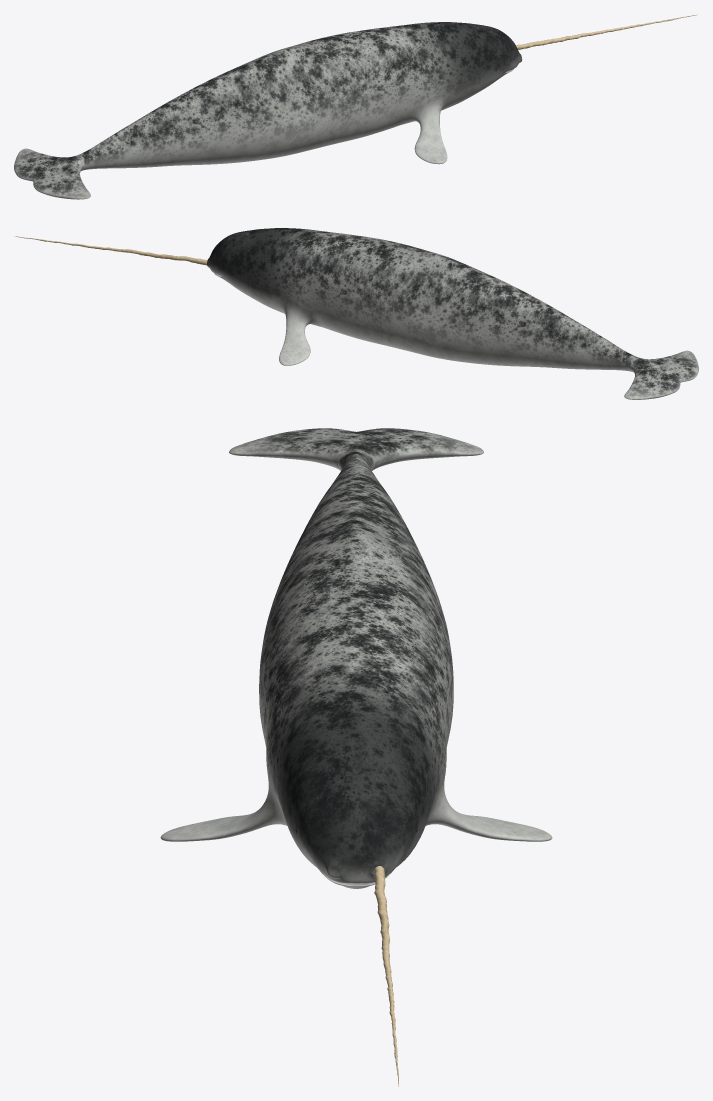
Rendered from narwhal-left-v0661.glb.
3 views of the same model, one above another, from view 1: azimuth 30°, elevation 25°; view 2: azimuth 150°, elevation 25°; view 3: azimuth 270°, elevation 25° (orthographic). The views are drawn at different scales.
Visible parts, largest first — view 1: narwhal-supplied-body, narwhal-left-tusk; view 2: narwhal-supplied-body, narwhal-left-tusk; view 3: narwhal-supplied-body, narwhal-left-tusk.
Boxes of the visible parts, <box> form: narwhal-supplied-body: <box>14,22,522,199</box>; narwhal-left-tusk: <box>516,14,697,49</box>; narwhal-supplied-body: <box>207,228,698,399</box>; narwhal-left-tusk: <box>14,236,207,265</box>; narwhal-supplied-body: <box>160,428,552,888</box>; narwhal-left-tusk: <box>374,866,398,1086</box>.
Size of the model in its own units: 6.29 by 0.9085 by 1.61.
3 materials, 2 textured.
